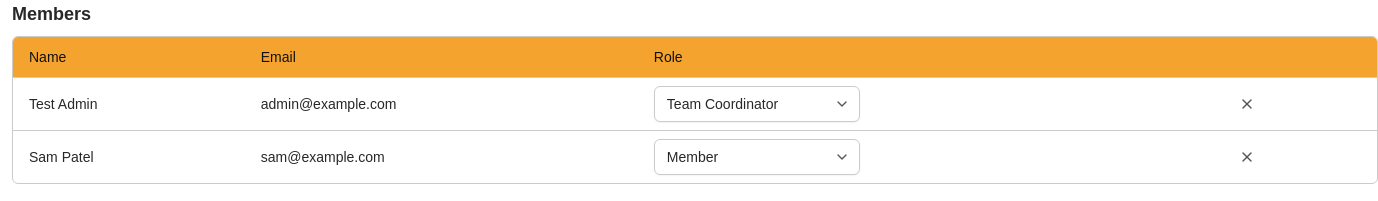
Scenario: MemberEditTable — removal staging › marks a member pending removal without touching Supabase
Click the button named "Remove Test Admin". click: (1247, 104)
box: [1229,88,1265,120]
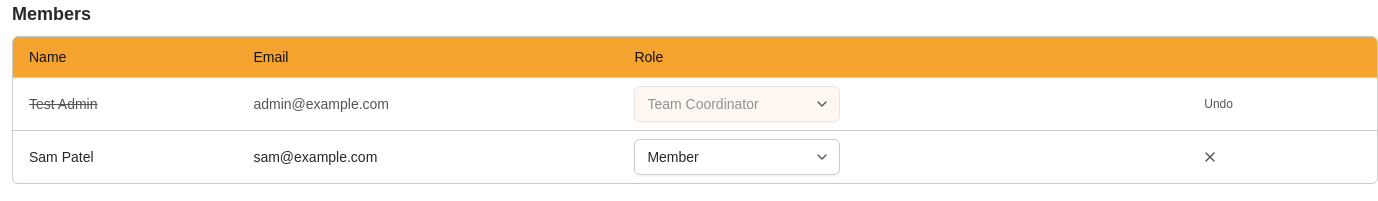
Check: the button "Undo" is shown, box [1192,88,1245,120]
